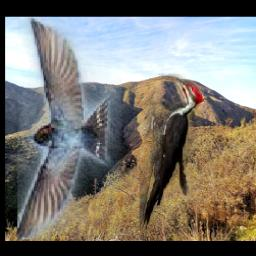Swallow: (17, 18, 121, 240)
Woodpecker: (141, 75, 205, 231)
